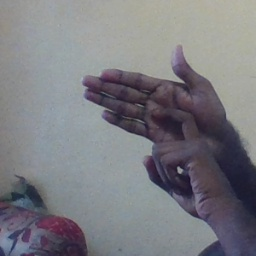R: (79, 37, 218, 178)
